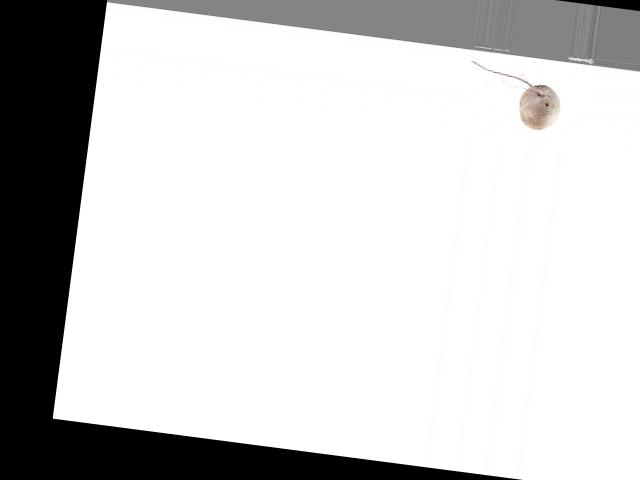beet: (463, 60, 564, 131)
